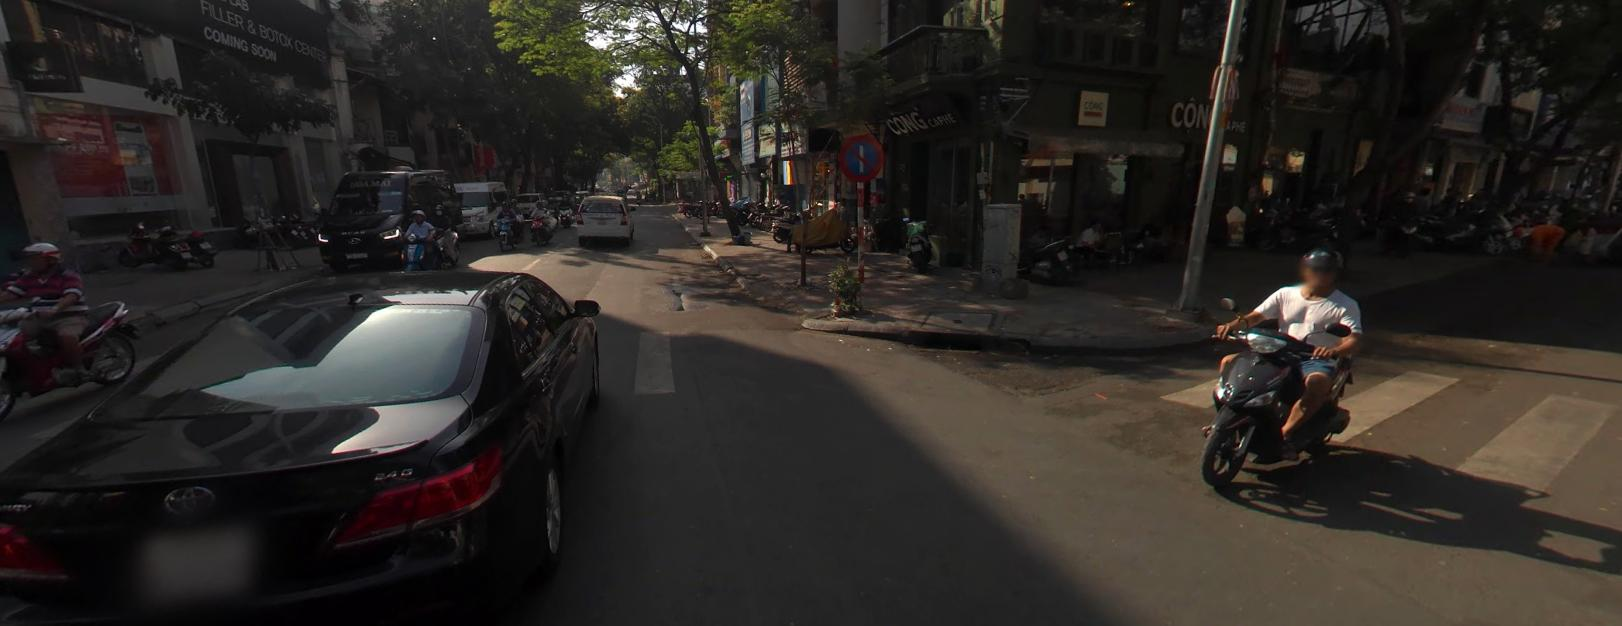Cam dung va do: (837, 130, 884, 183)
